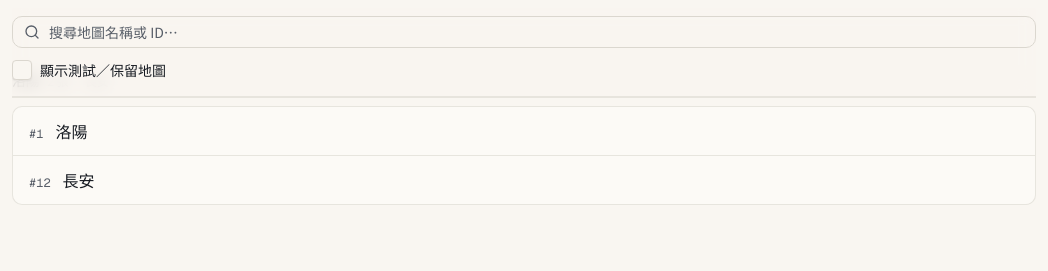
Test case: MapList 佔位地圖 › 預設隱藏，勾選後顯示並寫入 URL；搜尋時一律列出
Click the checkbox named "顯示測試／保留地圖" at (22, 70), box [12,60,32,80]
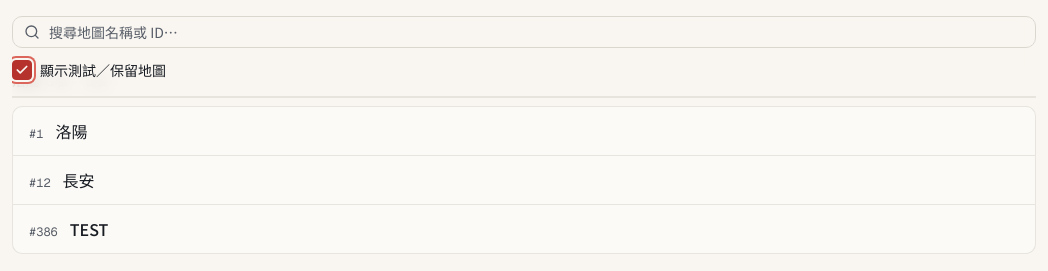
Click the checkbox named "顯示測試／保留地圖" at (22, 70), box [12,60,32,80]
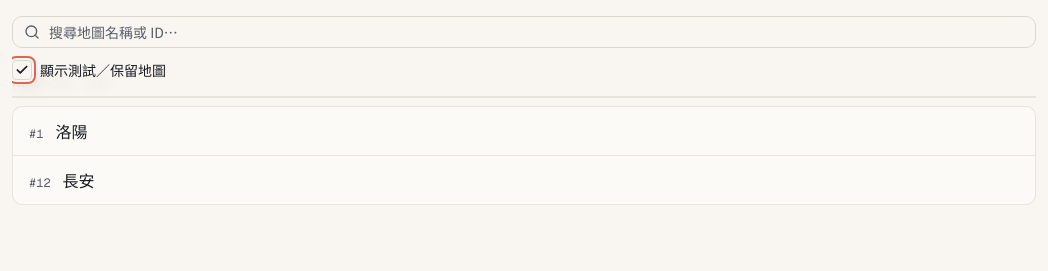
Type "TEST" into the search field with placeholder "搜尋地圖名稱或 ID…" at (524, 32), box [12,16,1036,48]
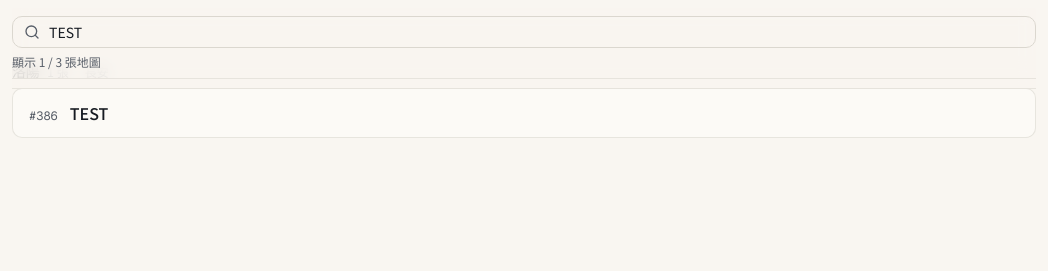
Result: the checkbox is gone
